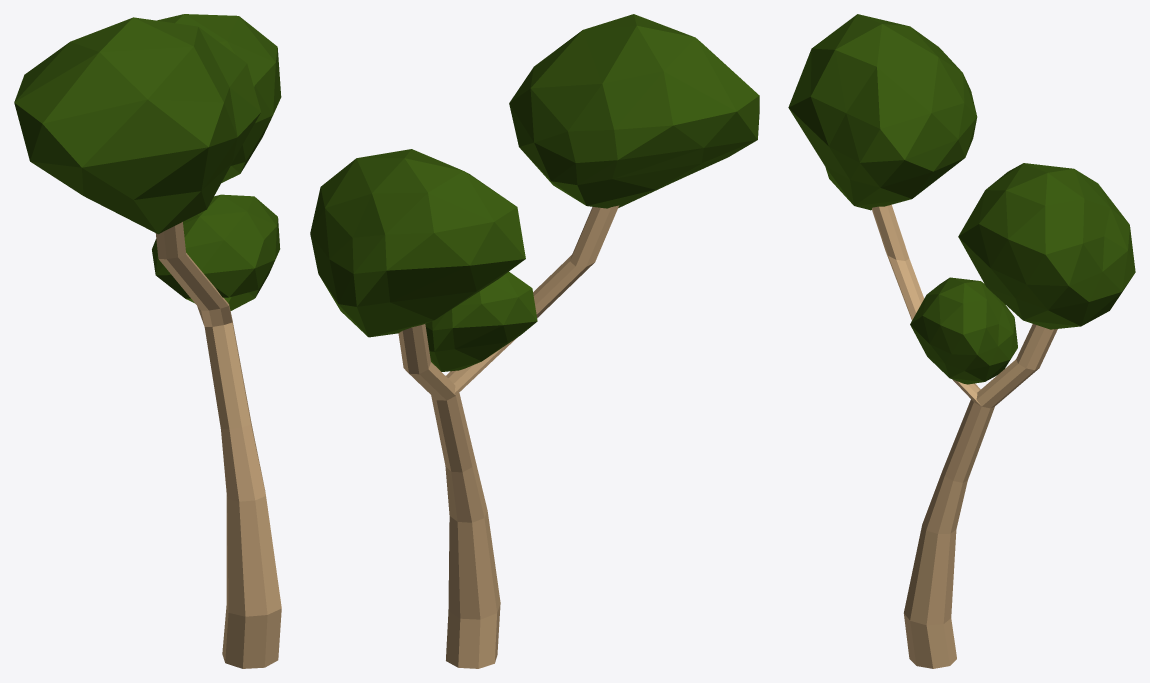
The model's file is Tree.fbx.
The picture shows the model from 3 angles, left to right: view 1: azimuth 30°, elevation 25°; view 2: azimuth 150°, elevation 25°; view 3: azimuth 270°, elevation 25°; orthographic projection. The views are drawn at different scales.
Visible parts, largest first — view 1: Tree; view 2: Tree; view 3: Tree.
Part boxes in pixels (x1,y1,x2,y2): Tree: (14,14,281,668); Tree: (310,14,759,668); Tree: (788,14,1135,668).
Size of the model in its own units: 236 by 437 by 239.
